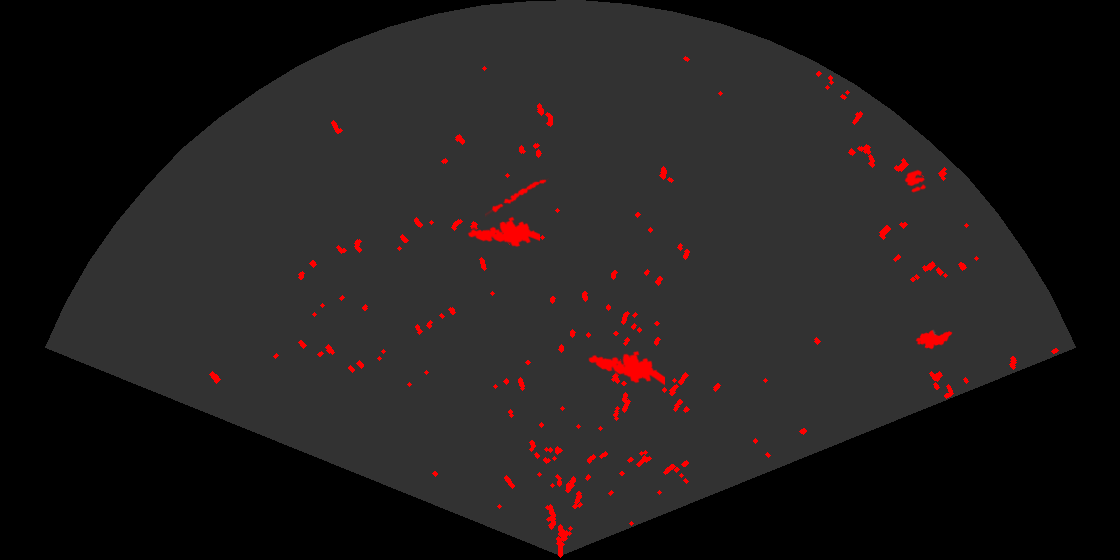AUV: (914, 328, 954, 351)
ball: (903, 168, 928, 194)
chain: (485, 177, 549, 217)
frogman: (587, 349, 665, 387), (466, 215, 540, 249)
